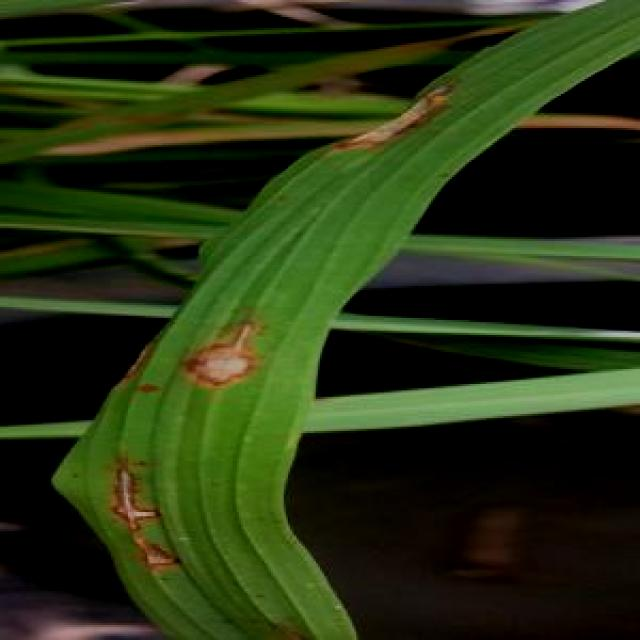Brown_Spot: (178, 308, 276, 421), (108, 454, 188, 582)
